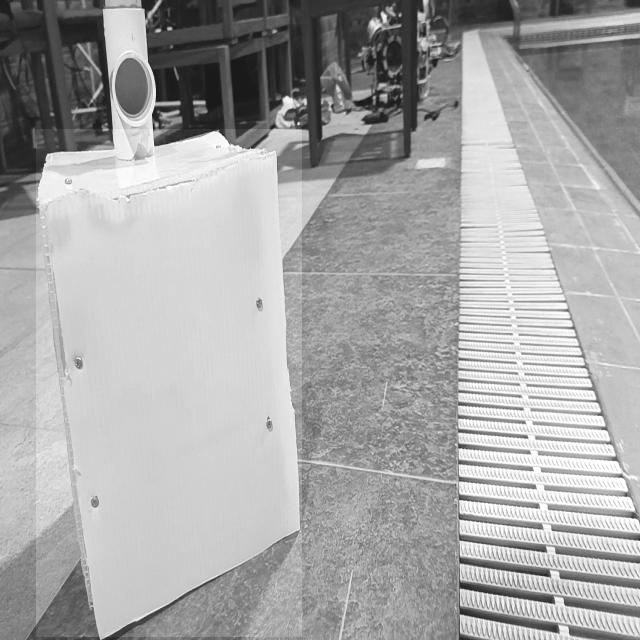Cube: (36, 129, 302, 637)
